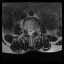CCS_normal: (29, 29, 31, 37)
LFS_normal: (33, 28, 35, 34)
LLS_normal: (31, 28, 33, 36)
RFS_normal: (25, 28, 27, 34)
RLS_normal: (27, 28, 29, 36)
